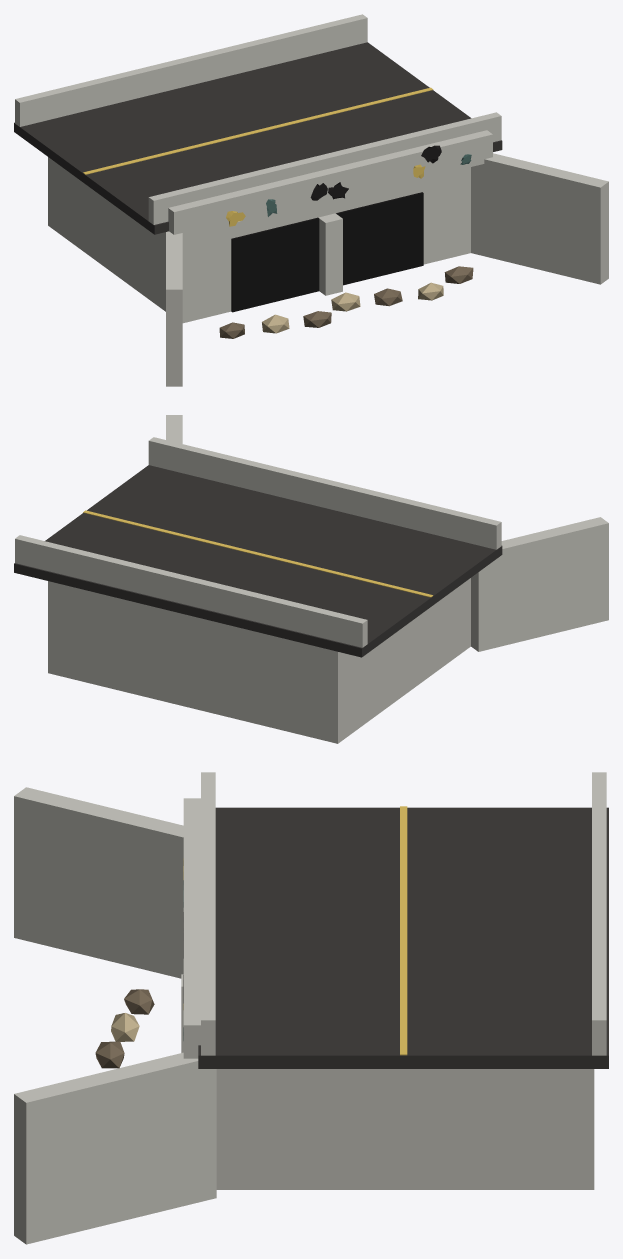
The model's file is wash_culvert.glb.
3 renders of one model, top to bottom at view 1: azimuth 30°, elevation 25°; view 2: azimuth 150°, elevation 25°; view 3: azimuth 270°, elevation 25°, orthographic. The views are drawn at different scales.
Parts seen in each view (by area): view 1: wash_culvert; view 2: wash_culvert; view 3: wash_culvert.
Boxes of the visible parts, left/top/right/bottom form: wash_culvert: left=14, top=14, right=608, bottom=386; wash_culvert: left=14, top=415, right=608, bottom=743; wash_culvert: left=14, top=772, right=608, bottom=1244.
Size of the model in its own units: 15.28 by 4.37 by 12.17.
